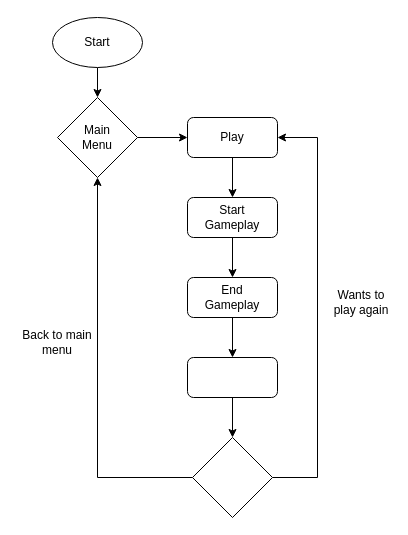
Some shapes in this 408 by 535 pixel diagram are drawn without their labels. The shapes that lost their labels are listed below. From the top down, each one's box as (x1, y1, x2, y2) in pixels, then its label:
(186, 356, 278, 398): Achivement
(192, 436, 272, 518): Option
